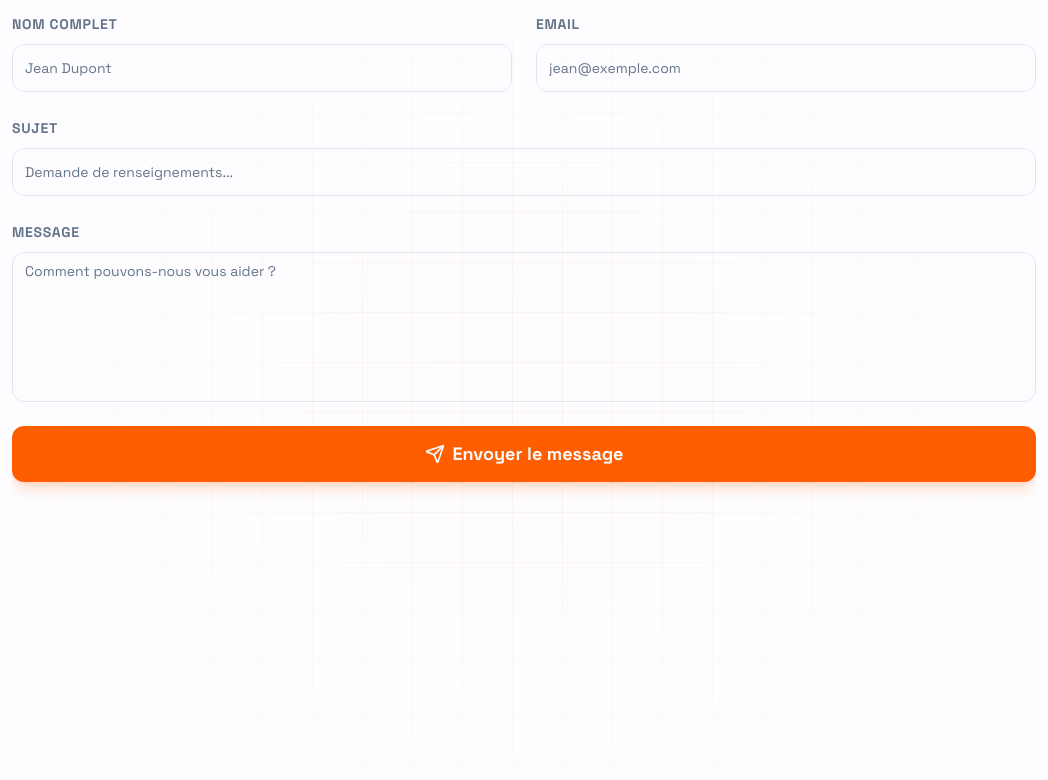
Test case: ContactForm › handles successful submission flow
The image size is (1048, 780).
Type "John Doe" into the field labelled "Nom complet". click: {"x": 262, "y": 68}
box: [12,44,512,92]
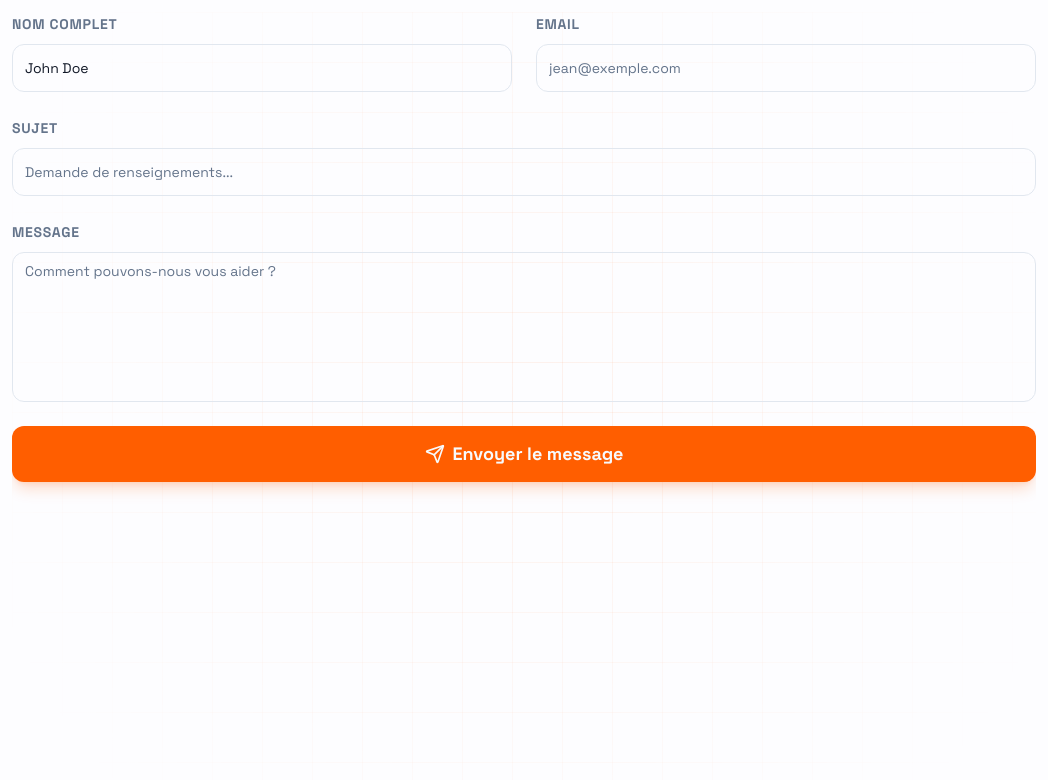
Type "john@example.com" into the field labelled "Email". click: {"x": 786, "y": 68}
box: [536,44,1036,92]
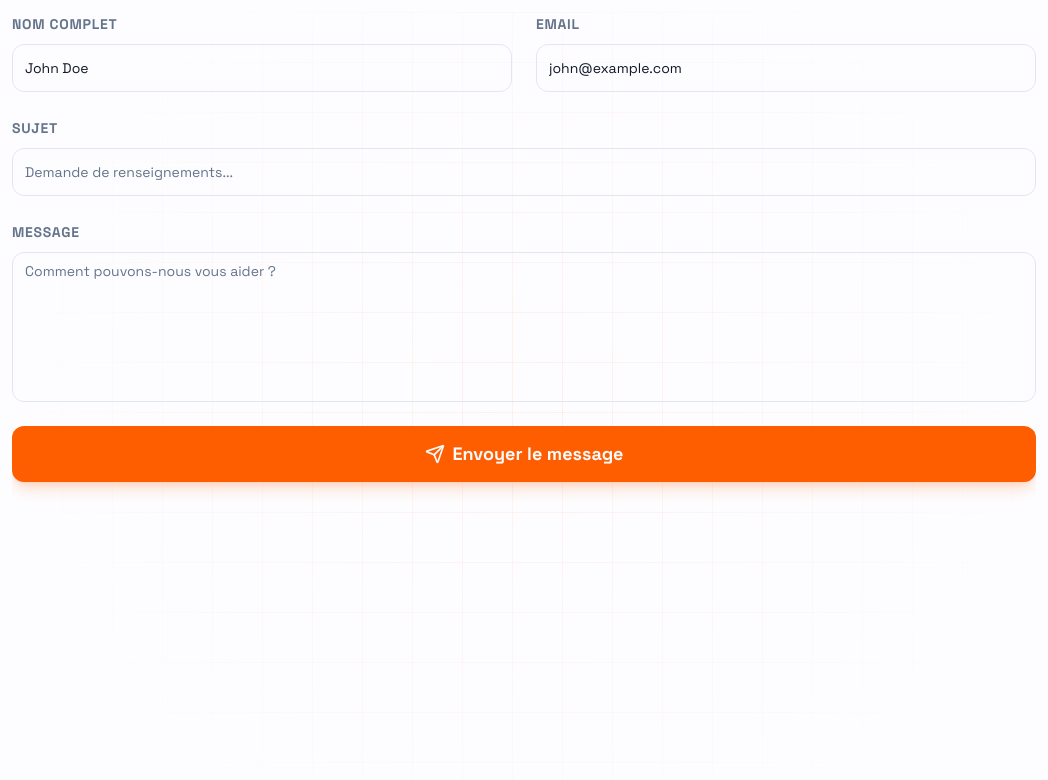
Type "Question about product" into the field labelled "Sujet". click: {"x": 524, "y": 172}
box: [12,148,1036,196]
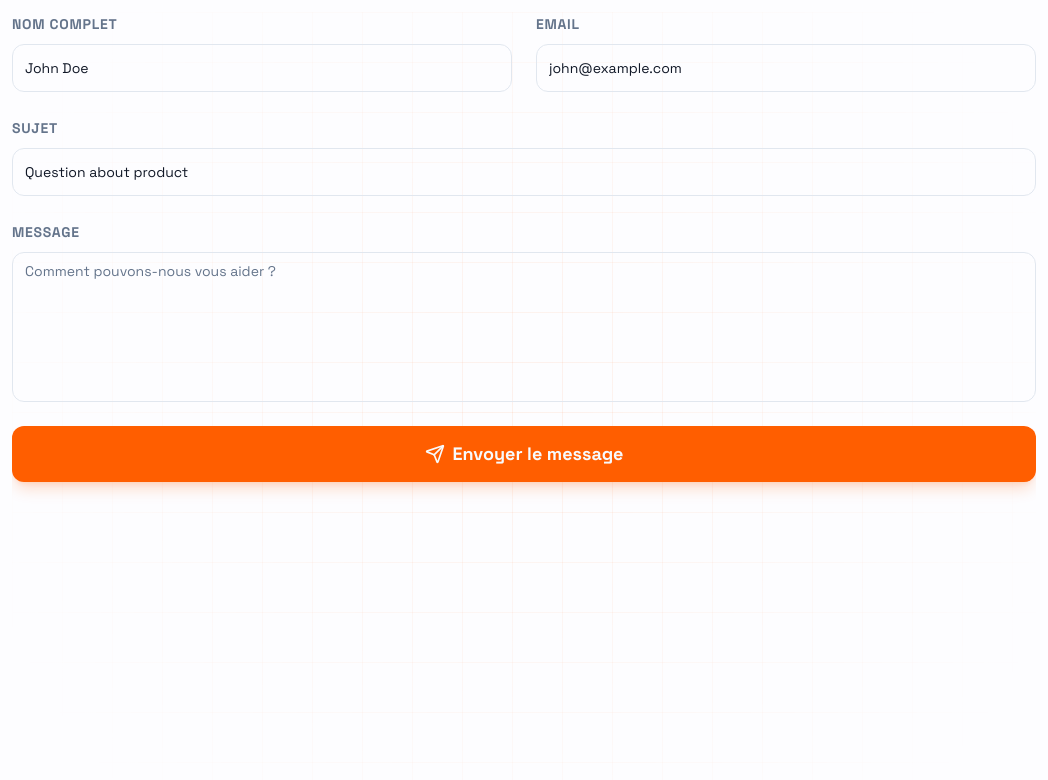
Type "I would like to know more about your services. Please contact me." into the text box labelled "Message". click: {"x": 524, "y": 327}
box: [12,252,1036,402]
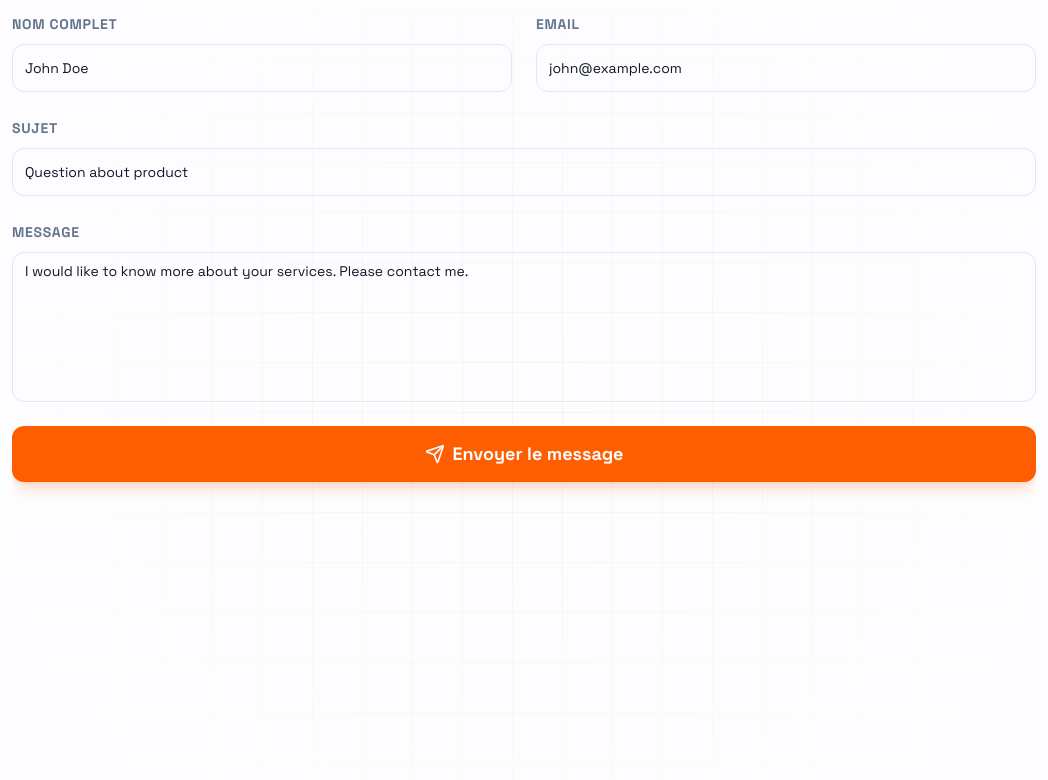
Note: Wrap click in act because it triggers async state updates immediately (since delay is 0 in test env)
Click the button "Envoyer le message". click: {"x": 524, "y": 454}
box: [12,426,1036,482]
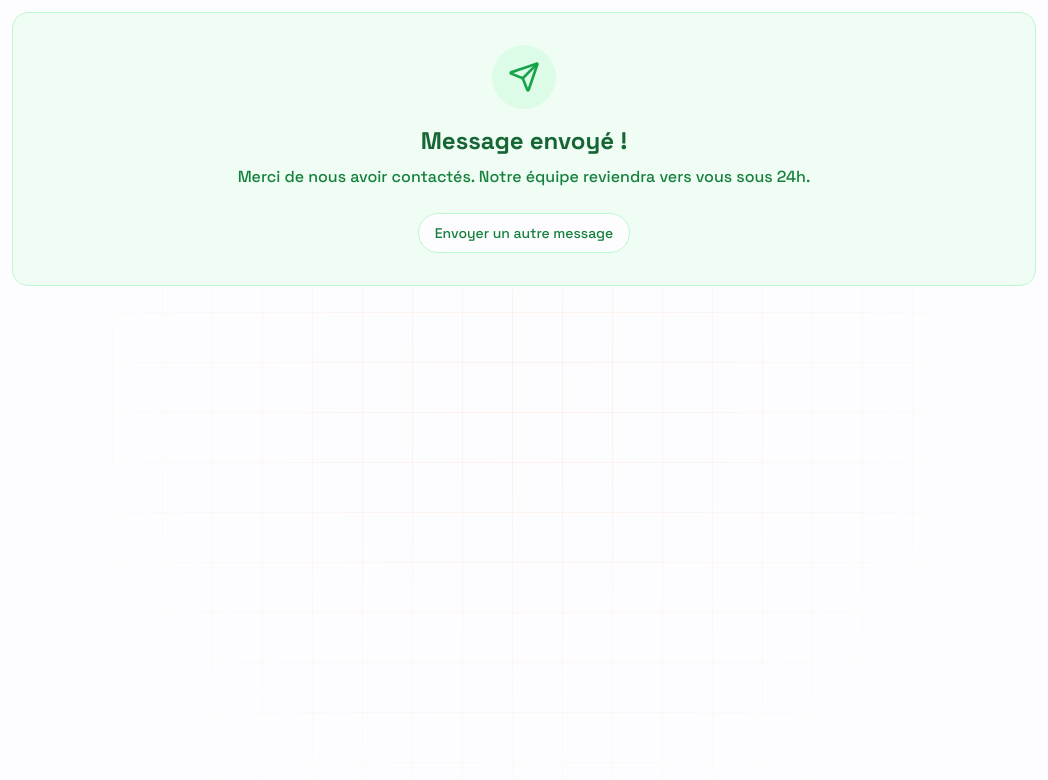
Now the heading "Message envoyé !" is shown, box [421,125,627,156]
Now the text "Merci de nous avoir contactés. Notre équipe reviendra vers vous sous 24h." is shown, box [238,166,810,187]
Now the label labelled "Nom complet" is gone
